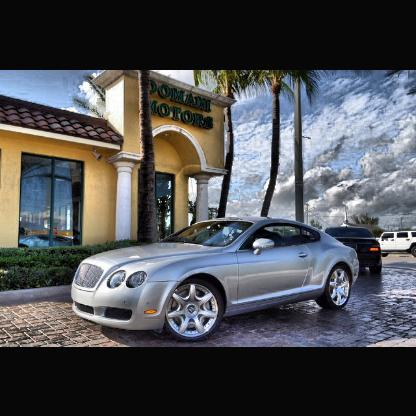Bentley Continental GT Coupe 2007: (71, 218, 363, 339)
